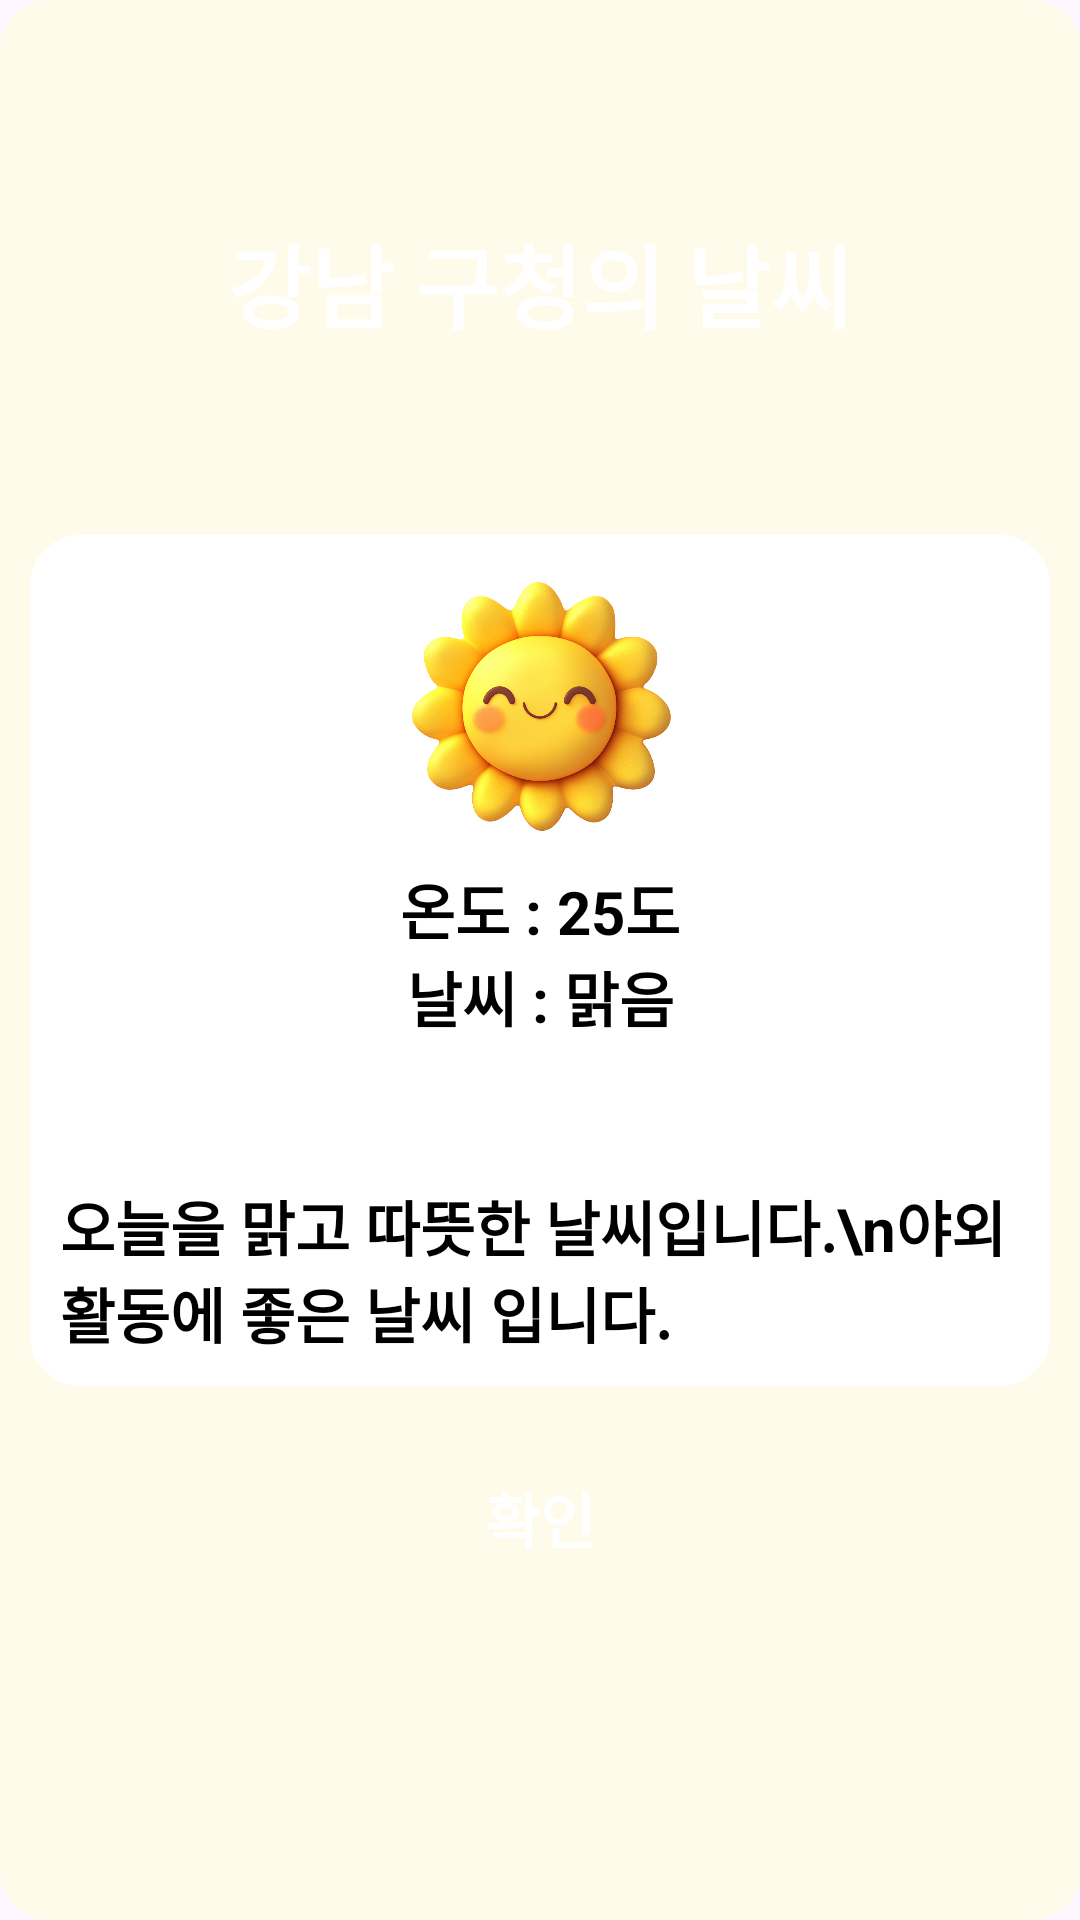

Where icons sit on this 1080x1920 app screen, as (x1, y1, x2, y2):
clear: (412, 582, 671, 831)
